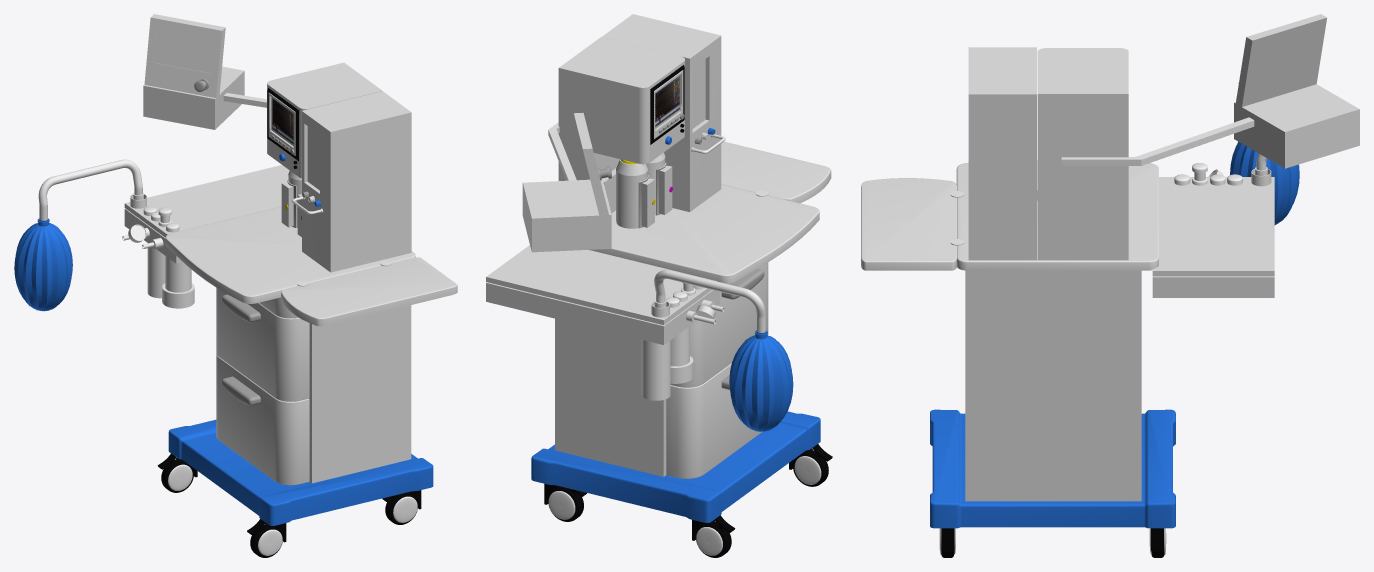
The model's file is anesthesia machine.fbx.
3 views of the same model, side by side, from view 1: azimuth 30°, elevation 25°; view 2: azimuth 150°, elevation 25°; view 3: azimuth 270°, elevation 25° (orthographic). The views are drawn at different scales.
Visible parts, largest first — view 1: Line044, Cylinder10, Rectangle2.002, Line043, Cube.012, Cube.008, Sphere, Pipe_01, Cylinder.016, Box024, Cube.009, Cylinder.015; view 2: Cylinder10, Line044, Rectangle2.002, Line043, Cube.008, Cube.012, Sphere, Cylinder.005, Pipe_01, Cylinder.015, Cube.009, Cylinder.016 (+1 smaller); view 3: Line044, Cylinder10, Rectangle2.002, Line043, Cube.008, Cube.012, Sphere.
Part boxes in pixels (<box>): Line044: <box>216,288,411,485</box>; Cylinder10: <box>223,62,411,272</box>; Rectangle2.002: <box>165,206,457,326</box>; Line043: <box>157,419,433,557</box>; Cube.012: <box>143,14,244,129</box>; Cube.008: <box>124,165,289,263</box>; Sphere: <box>14,218,72,311</box>; Pipe_01: <box>38,159,146,220</box>; Cylinder.016: <box>162,256,194,308</box>; Box024: <box>221,294,260,405</box>; Cube.009: <box>281,179,301,236</box>; Cylinder.015: <box>147,247,165,298</box>; Cylinder10: <box>548,14,725,213</box>; Line044: <box>555,262,768,478</box>; Rectangle2.002: <box>589,141,831,283</box>; Line043: <box>531,411,832,557</box>; Cube.008: <box>486,245,720,344</box>; Cube.012: <box>522,112,611,252</box>; Sphere: <box>729,330,793,431</box>; Cylinder.005: <box>616,152,665,228</box>; Pipe_01: <box>651,270,765,332</box>; Cylinder.015: <box>641,340,670,400</box>; Cube.009: <box>638,163,672,228</box>; Cylinder.016: <box>670,326,693,383</box>; Line044: <box>965,270,1141,501</box>; Cylinder10: <box>968,47,1254,260</box>; Rectangle2.002: <box>861,160,1158,270</box>; Line043: <box>930,409,1175,557</box>; Cube.008: <box>1152,177,1274,297</box>; Cube.012: <box>1234,14,1359,168</box>; Sphere: <box>1230,141,1299,225</box>.
Size of the model in its own units: 151 by 216 by 200.
Materials: 8 (1 with a texture image).
